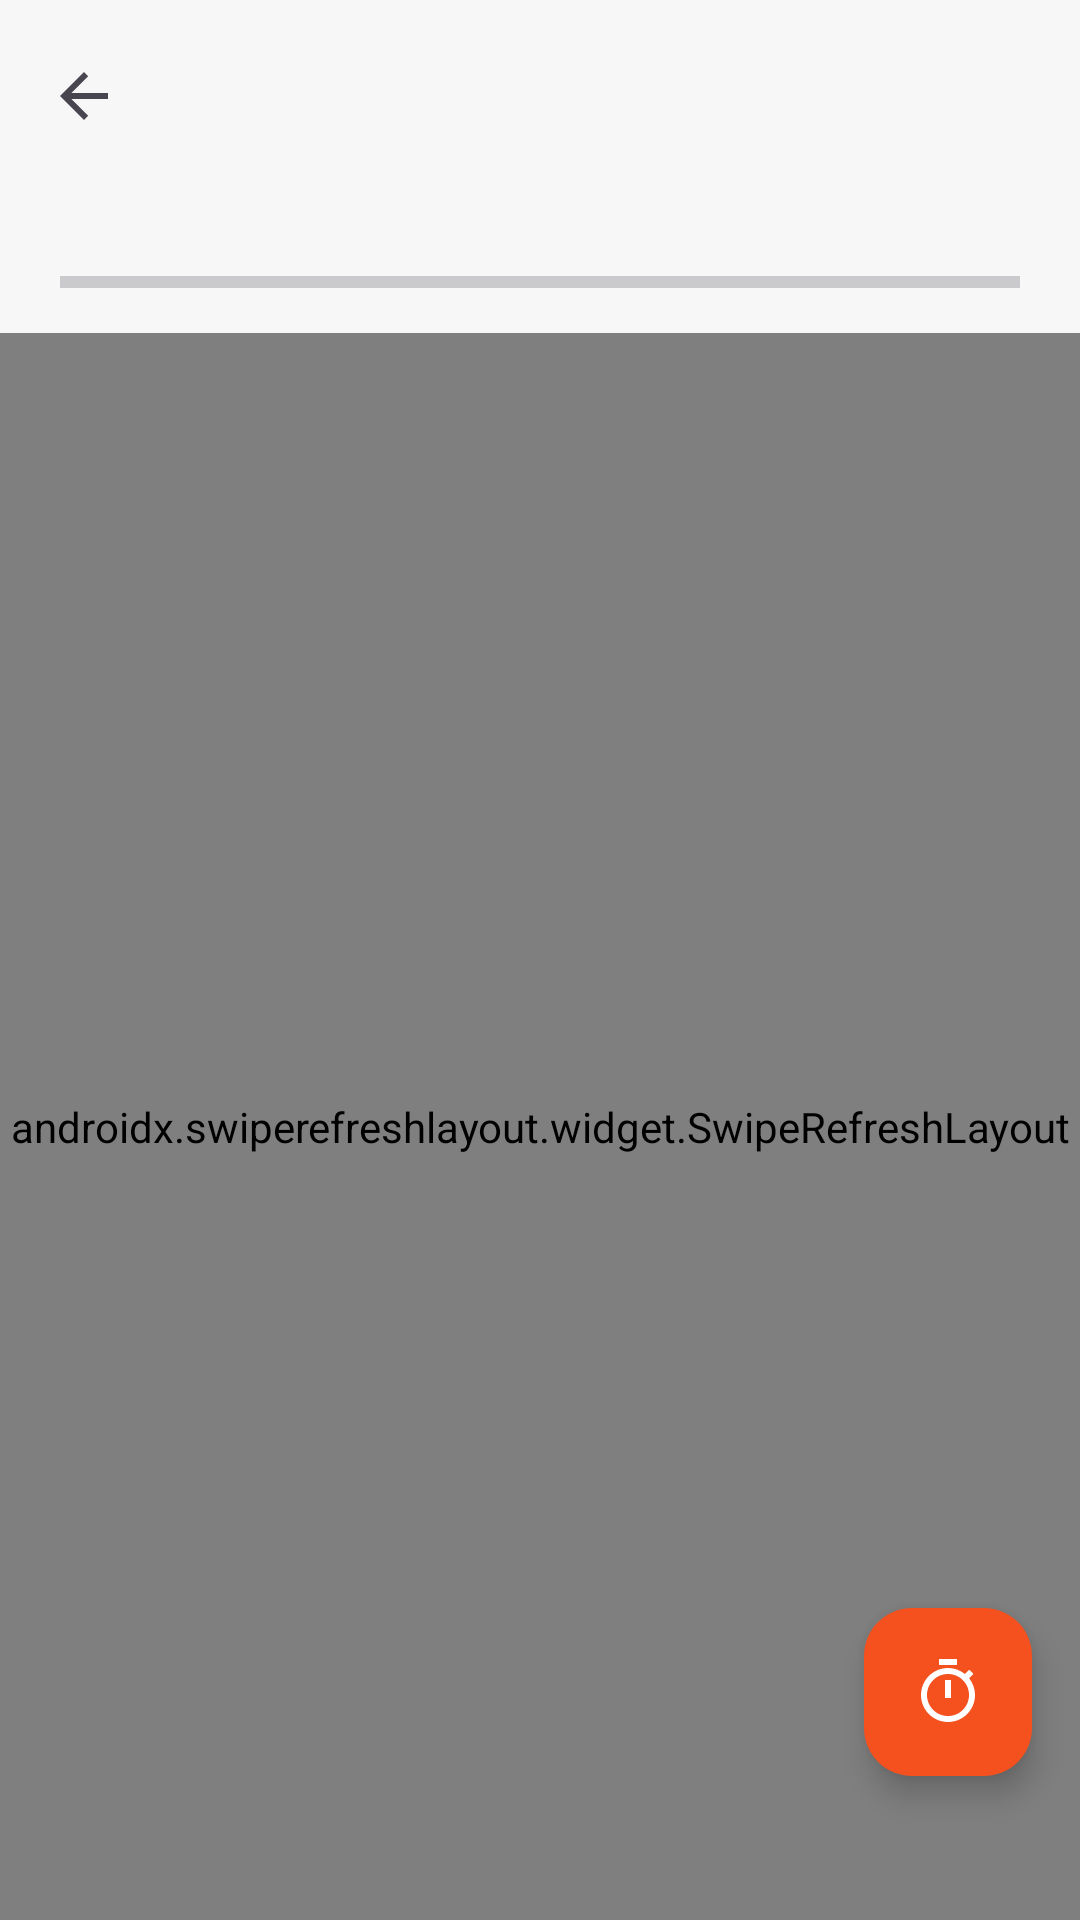

Named icons in this screenshot (1080x1920) and their bounding boxes, region(x1, y1, x2, y2):
Cronômetro de descanso: region(864, 1608, 1032, 1776)
